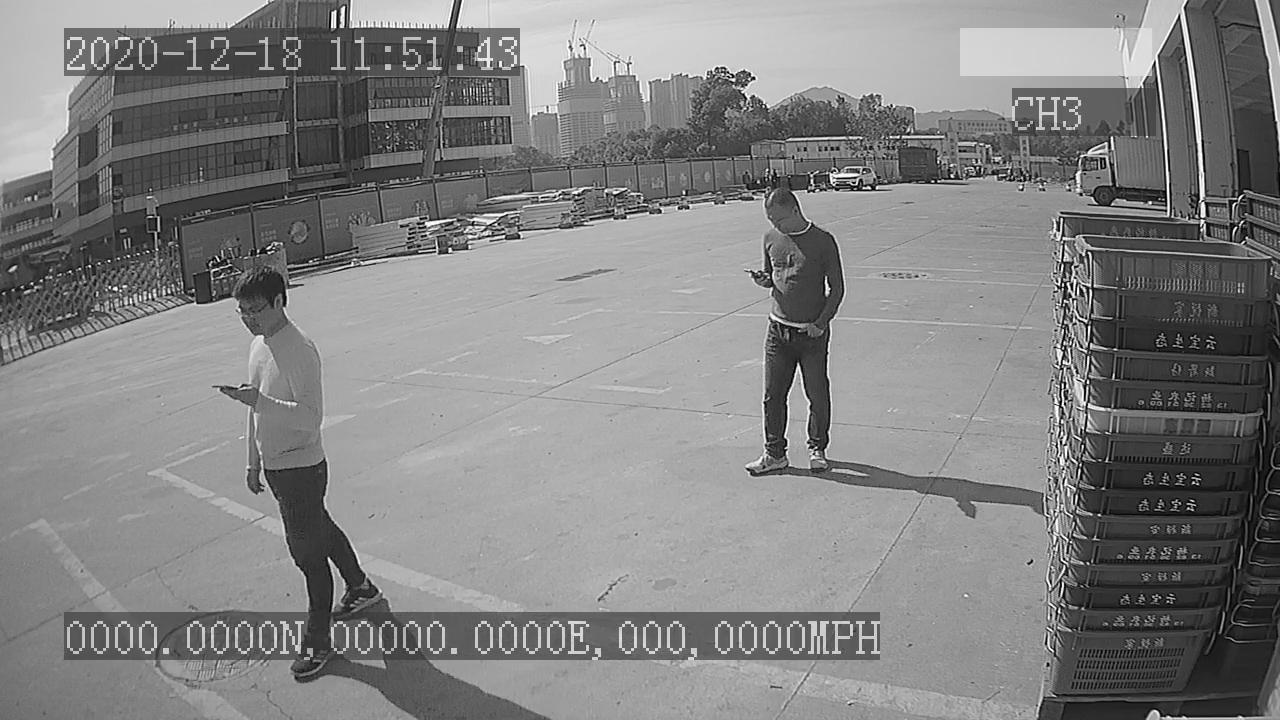person: (738, 183, 854, 485)
